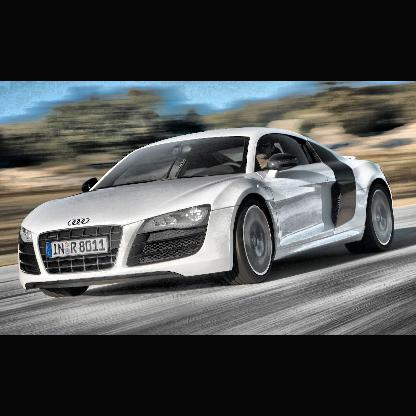Audi R8 Coupe 2012: (19, 126, 393, 298)
